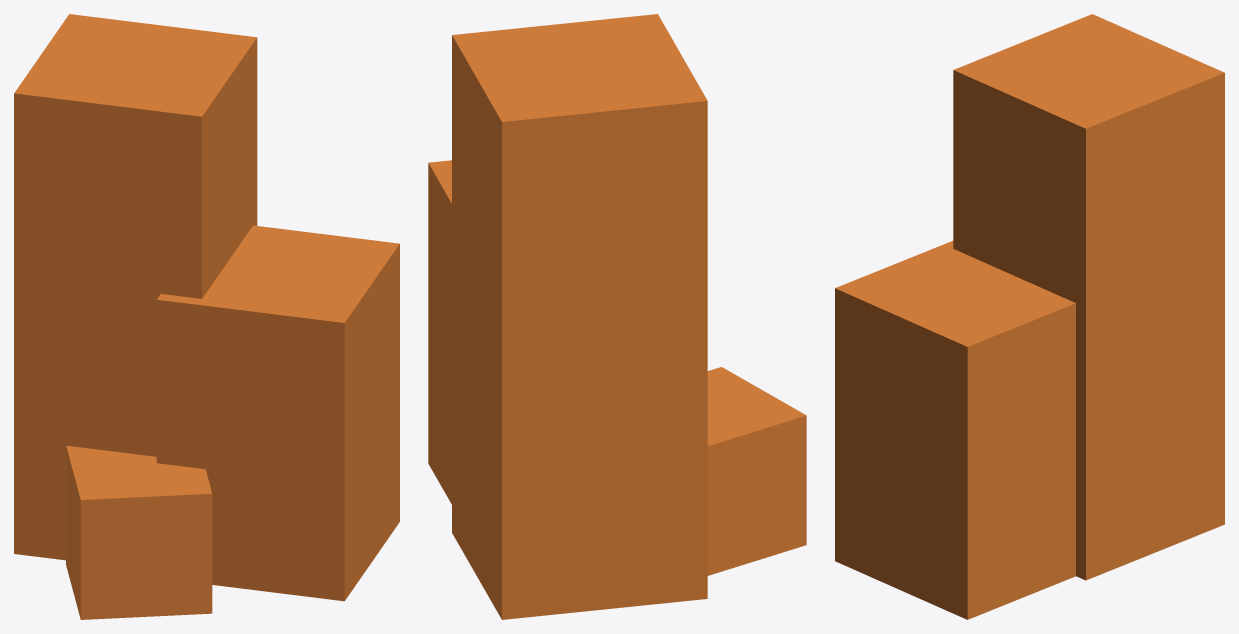
The model's file is blocks.fbx.
3 views of the same model, side by side, from view 1: azimuth 30°, elevation 25°; view 2: azimuth 150°, elevation 25°; view 3: azimuth 270°, elevation 25° (orthographic). The views are drawn at different scales.
Parts seen in each view (by area): view 1: Cube.002; view 2: Cube.002; view 3: Cube.002.
Part boxes in pixels (x1=…): Cube.002: x1=14, y1=14, x2=399, y2=619; Cube.002: x1=428, y1=14, x2=806, y2=619; Cube.002: x1=835, y1=14, x2=1224, y2=619.
Bounding box in the file's own units: 1660 × 2208 × 1708.
